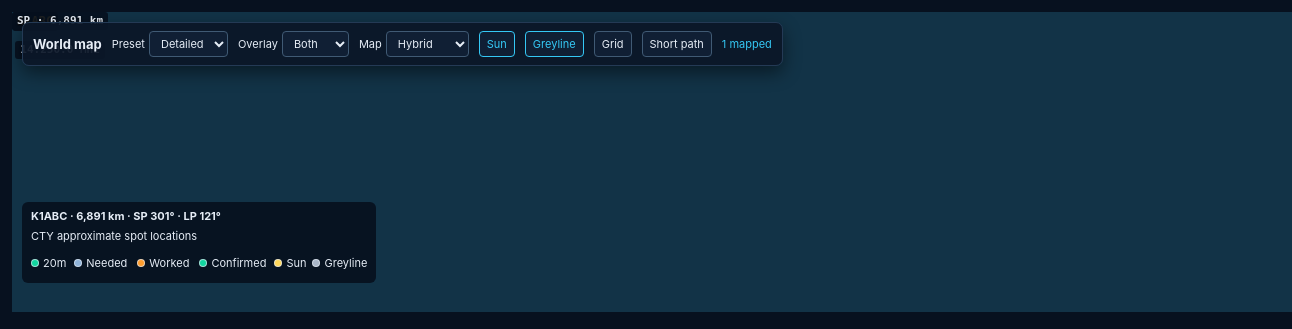
Test: map spot inspection › labels both known route endpoints and the selected path with distance above observed frequency
Expected: the text named "Home station OM0RX" reads "OM0RX", [17,14,53,28]
Expected: the text named "Target K1ABC" reads "K1ABC", [17,14,53,28]
Click the button "Short path": (677, 44) [642,31,712,57]
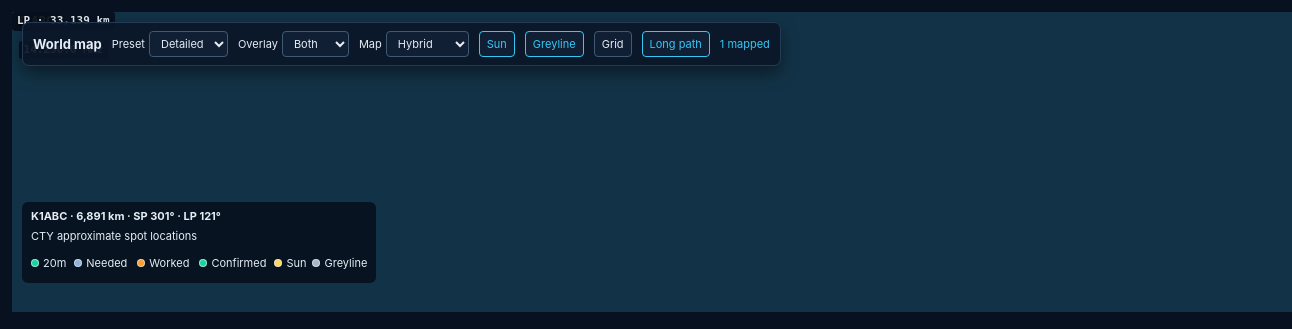
Now the text with class "map-route-distance" reads "LP · 33,139 km", box [17,14,110,27]
